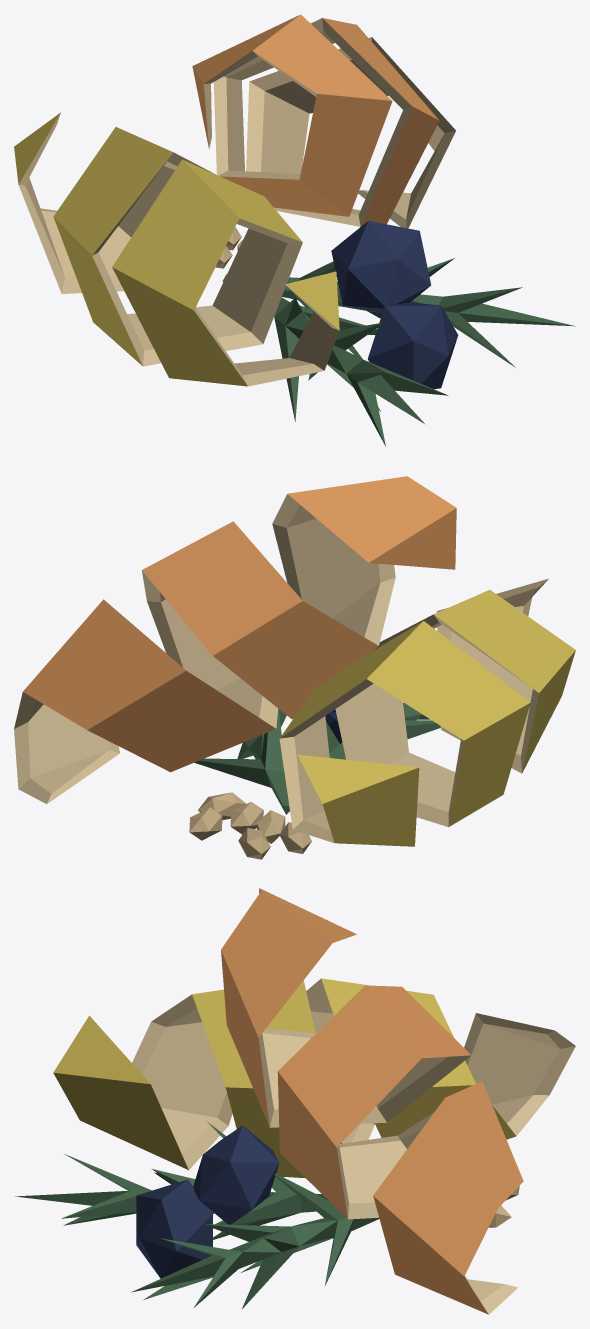
The model's file is SM_GinBotanicals.fbx.
3 renders of one model, top to bottom at view 1: azimuth 30°, elevation 25°; view 2: azimuth 150°, elevation 25°; view 3: azimuth 270°, elevation 25°, orthographic. The views are drawn at different scales.
Visible parts, largest first — view 1: Gin_Botanicals; view 2: Gin_Botanicals; view 3: Gin_Botanicals.
Part boxes in pixels (bbox=[...]): Gin_Botanicals: bbox=[14, 14, 575, 446]; Gin_Botanicals: bbox=[14, 476, 575, 859]; Gin_Botanicals: bbox=[15, 888, 575, 1314].
Bounding box in the file's own units: 0.2147 × 0.166 × 0.2457.
